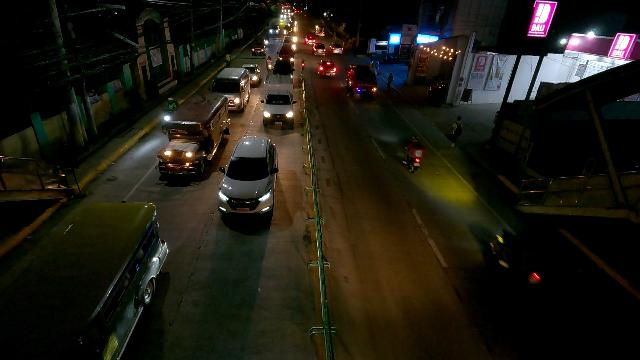car: (214, 135, 280, 220), (241, 63, 261, 86), (317, 59, 336, 78), (277, 44, 296, 63), (251, 39, 268, 57), (311, 42, 326, 57), (329, 42, 344, 56), (267, 24, 280, 34), (304, 36, 316, 46)
jeepney: (157, 92, 229, 178)
motorcycle: (403, 136, 424, 173), (161, 99, 179, 124), (265, 59, 274, 76), (263, 38, 268, 48)
truck: (345, 64, 378, 101)
van: (261, 74, 296, 129), (209, 68, 251, 110)
